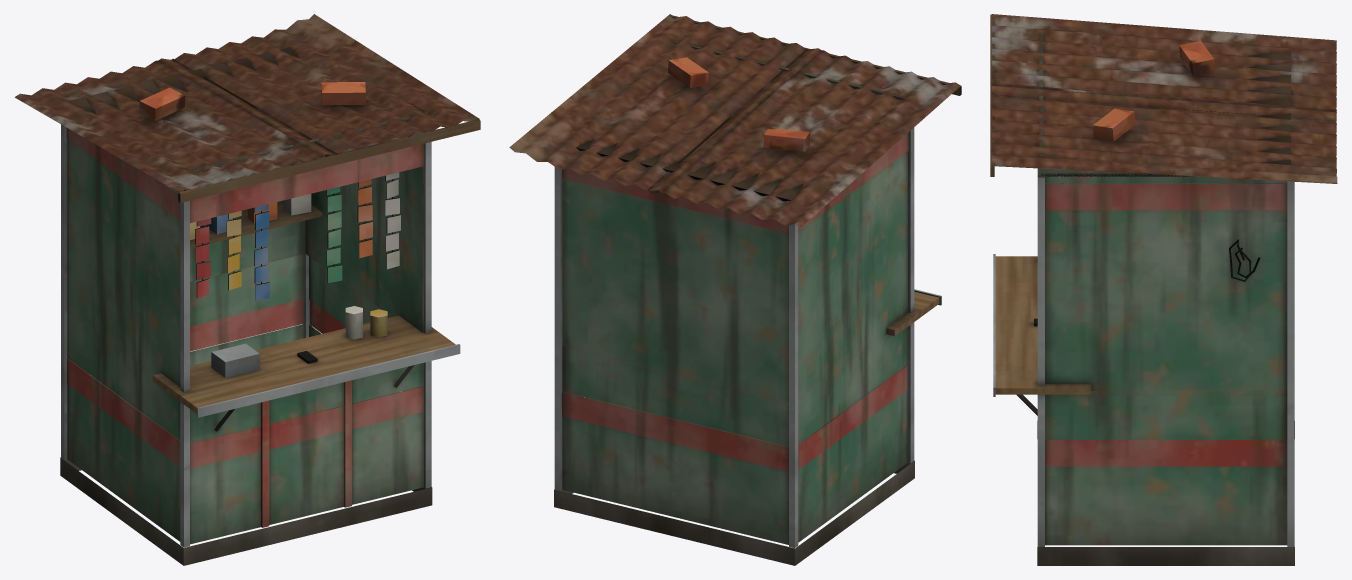
File: flexi_kiosk.glb
The picture shows the model from 3 angles, left to right: view 1: azimuth 30°, elevation 25°; view 2: azimuth 150°, elevation 25°; view 3: azimuth 270°, elevation 25°; orthographic projection. The views are drawn at different scales.
Parts seen in each view (by area): view 1: body; view 2: body; view 3: body.
Boxes of the visible parts, bbox=[...] form: body: bbox=[14, 14, 480, 565]; body: bbox=[509, 14, 961, 565]; body: bbox=[990, 14, 1337, 565].
Size of the model in its own units: 1.74 by 2.24 by 1.67.
Materials: 1 (1 with a texture image).
